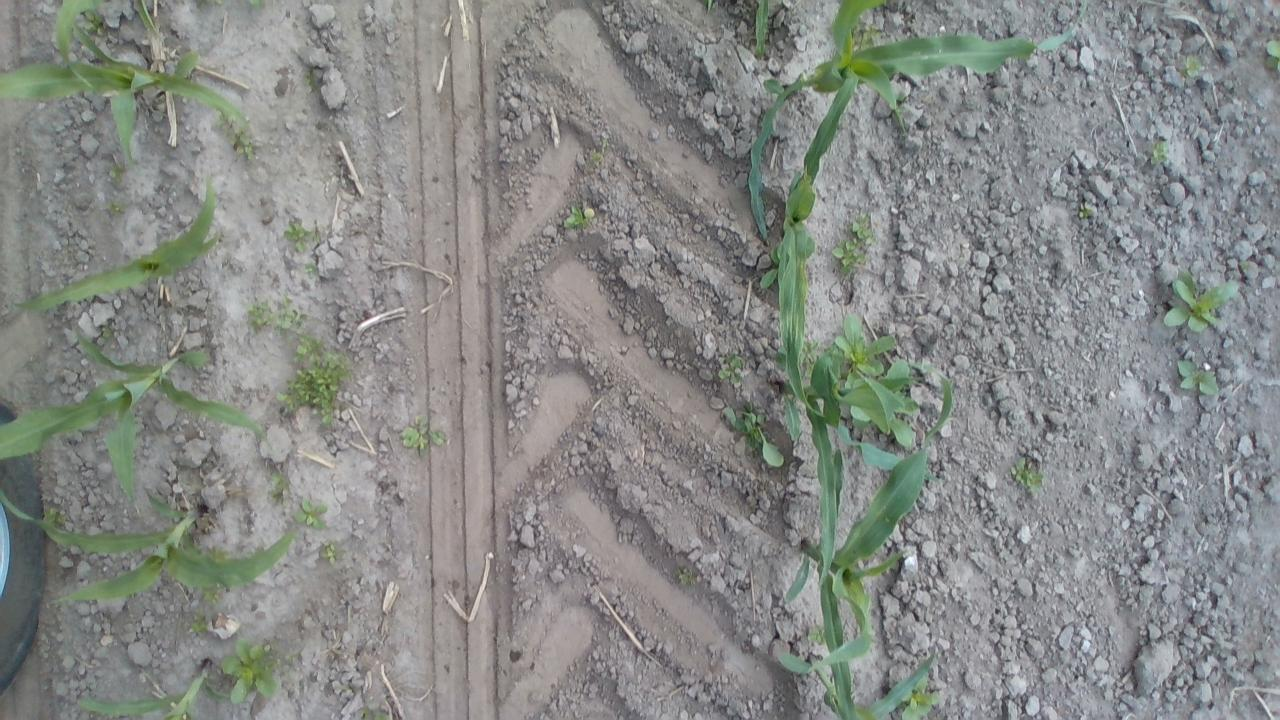Maize: (746, 3, 1090, 241), (773, 361, 955, 720), (1, 322, 278, 506), (0, 18, 251, 168), (780, 342, 926, 594), (0, 488, 302, 606), (13, 170, 222, 312), (779, 74, 860, 420), (801, 639, 938, 720), (69, 655, 232, 720), (830, 0, 887, 59), (50, 0, 98, 65), (134, 0, 162, 43), (752, 0, 772, 59), (704, 0, 714, 12)
Weeds: (278, 332, 351, 426), (1158, 262, 1238, 334), (717, 395, 785, 467), (218, 632, 280, 708), (834, 312, 896, 376), (831, 210, 879, 276), (245, 294, 307, 332), (397, 413, 448, 458), (1174, 358, 1218, 397), (903, 681, 941, 720), (1010, 456, 1046, 492), (292, 496, 330, 530), (282, 218, 318, 253), (715, 356, 751, 386), (558, 204, 594, 231), (1177, 50, 1208, 80), (1147, 134, 1170, 166), (270, 470, 292, 502), (80, 10, 105, 38), (1262, 36, 1280, 70), (230, 132, 253, 158), (586, 136, 608, 162), (319, 538, 340, 564), (44, 507, 72, 526), (302, 68, 322, 94), (184, 613, 205, 635), (214, 112, 237, 132), (357, 707, 392, 720), (200, 591, 224, 607), (805, 626, 824, 646), (108, 162, 125, 183), (1076, 200, 1092, 222), (675, 566, 694, 584), (303, 260, 321, 278), (107, 200, 127, 214), (1239, 260, 1251, 271), (244, 0, 266, 6)
